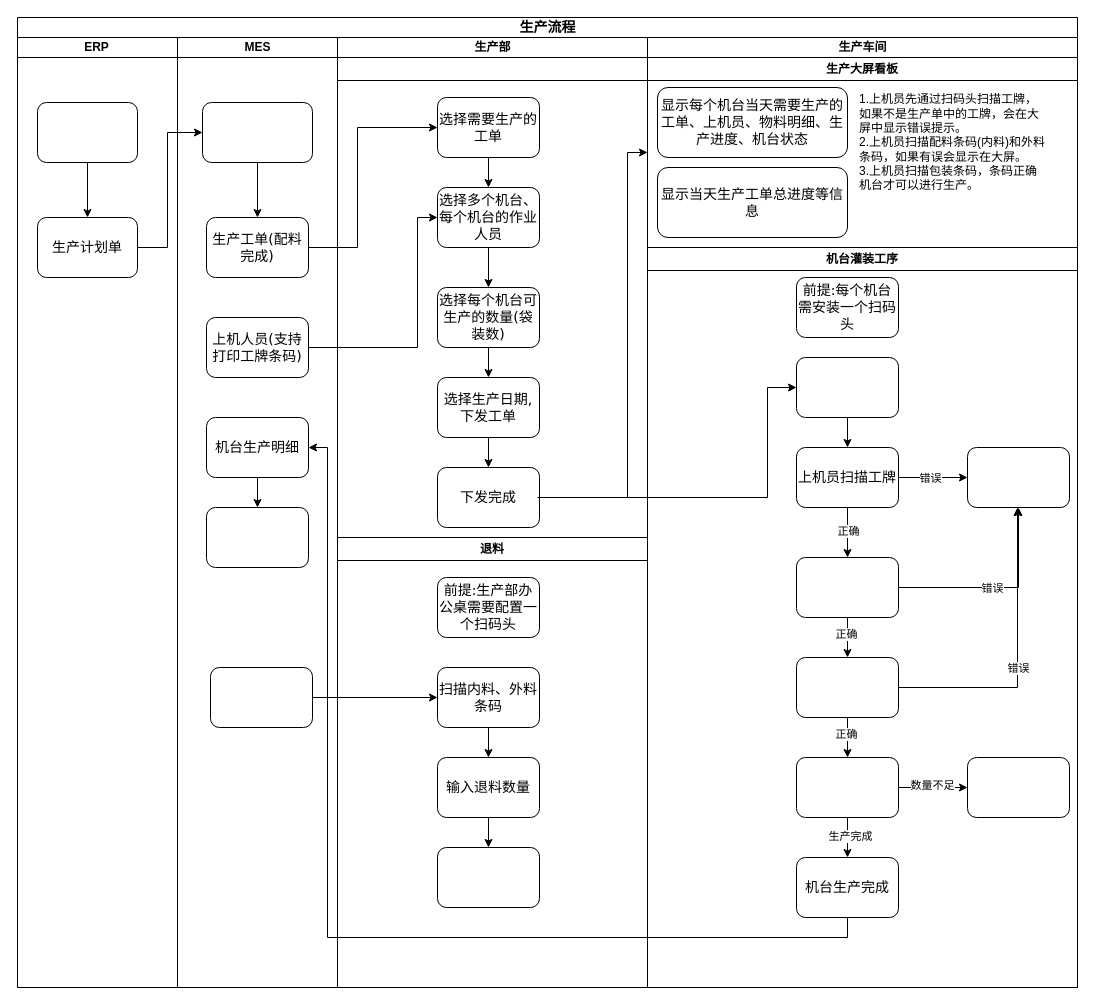
The diagram is 1095 pixels wide and 1005 high, and some of its shapes have lost their labels. Each missing label, with the centre of its shape:
"上机员扫描内料、外料条码 (多次扫码)" belongs at (847,587).
"上机员扫描包装袋条码(多次扫码)" belongs at (847,687).
"上机员通过大屏看板找到自己负责机台" belongs at (847,387).
"同步生产计划等数据" belongs at (257,132).
"大屏显示包装条码数量不足错误" belongs at (1018,787).
"大屏显示相应的错误信息" belongs at (1018,477).
"工单下发" belongs at (492,297).
"机台根据扫描的包装袋条码数量进行生产" belongs at (847,787).
"生产报表" belongs at (257,537).
"退料完成" belongs at (488,877).
"退料管理" belongs at (261,697).
"销售订单" belongs at (87,132).
